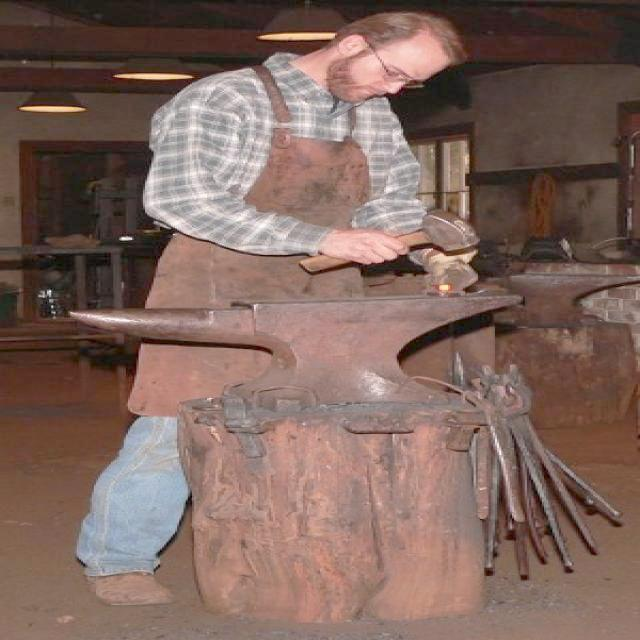hammer: (286, 201, 500, 275)
